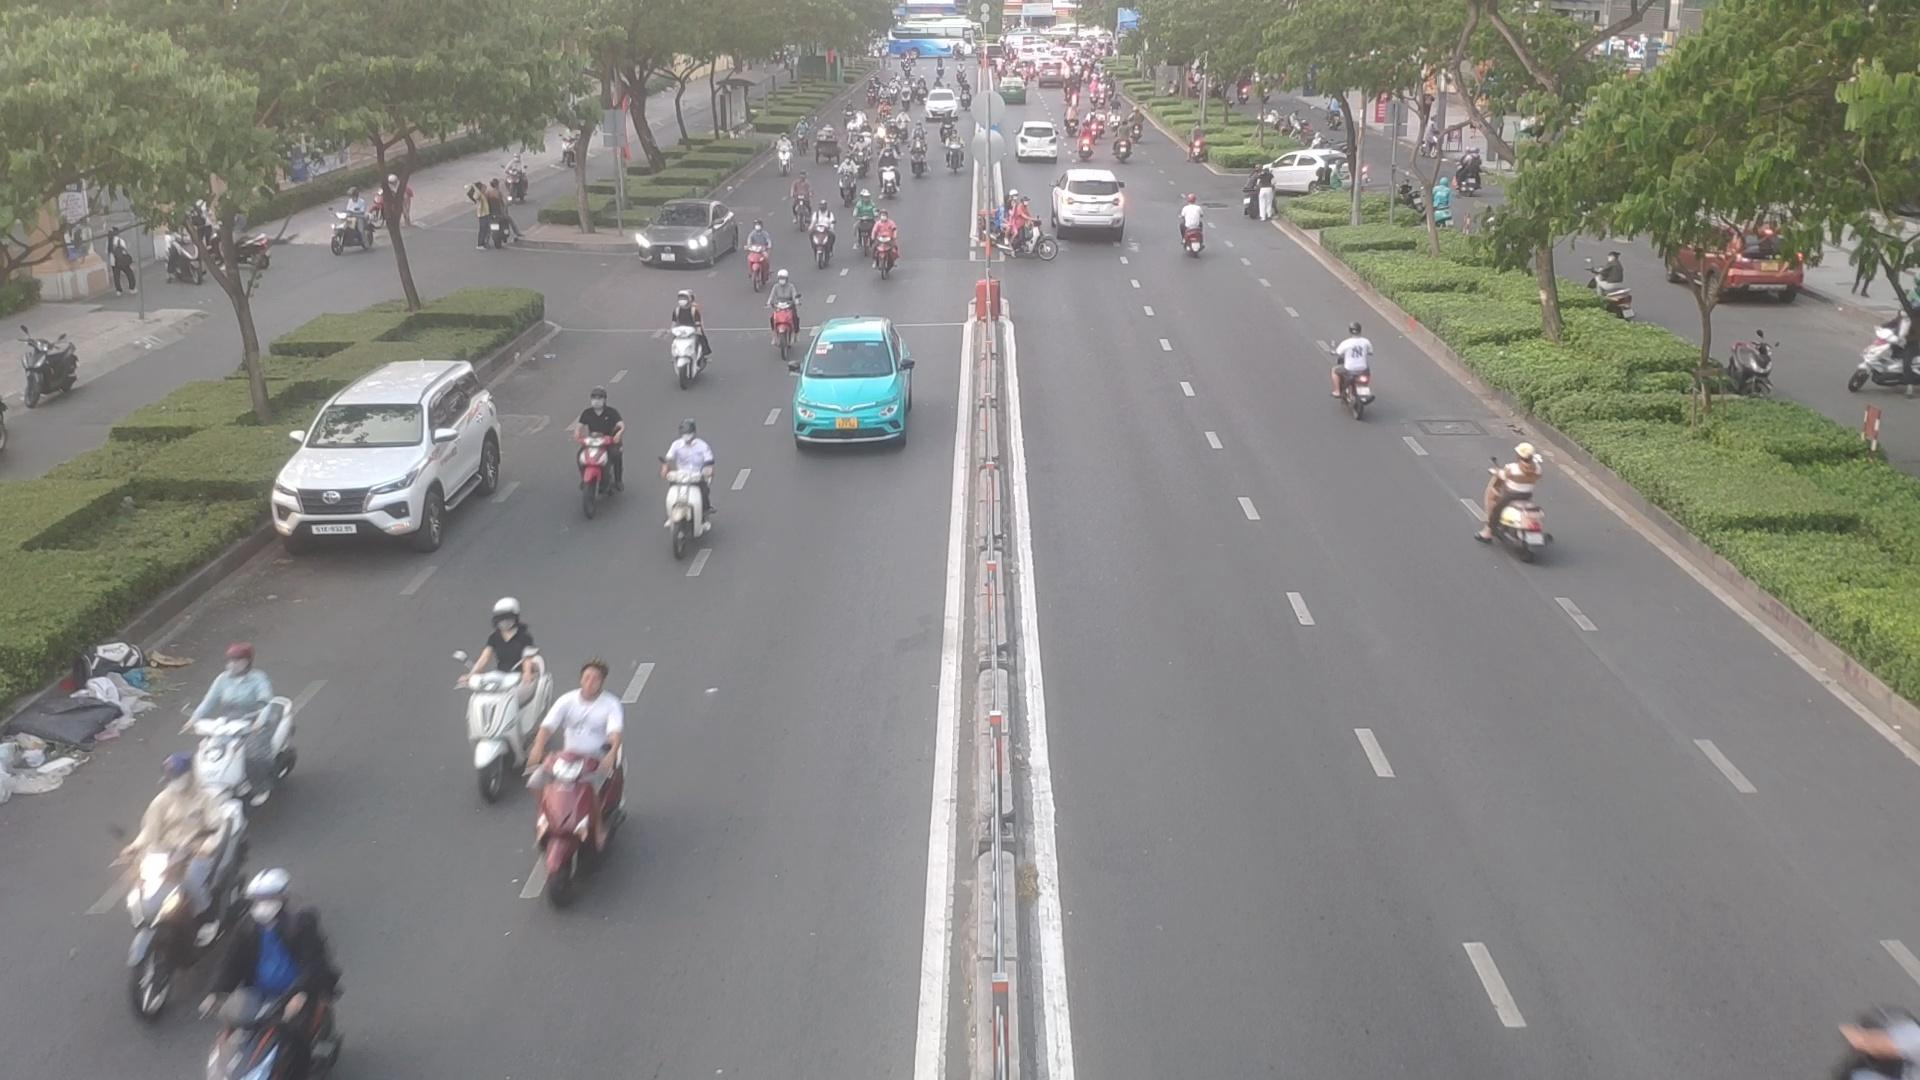car: (272, 361, 506, 554), (791, 315, 914, 448), (632, 204, 745, 270), (1059, 170, 1131, 235), (1265, 149, 1353, 193), (1015, 123, 1065, 164)
motorbike: (520, 653, 640, 887), (218, 858, 338, 1080), (102, 742, 204, 998), (177, 644, 301, 847), (454, 585, 556, 820), (644, 404, 723, 545), (1477, 436, 1552, 564), (578, 396, 626, 527), (663, 290, 711, 389), (1335, 314, 1379, 415), (998, 196, 1054, 264), (757, 272, 803, 339), (1174, 190, 1216, 256), (870, 212, 898, 278), (810, 195, 829, 270), (754, 214, 777, 280), (873, 145, 901, 198), (852, 193, 874, 256), (789, 171, 812, 225), (839, 153, 861, 203), (940, 132, 965, 175), (847, 132, 872, 171), (910, 136, 928, 174), (771, 127, 789, 167)
